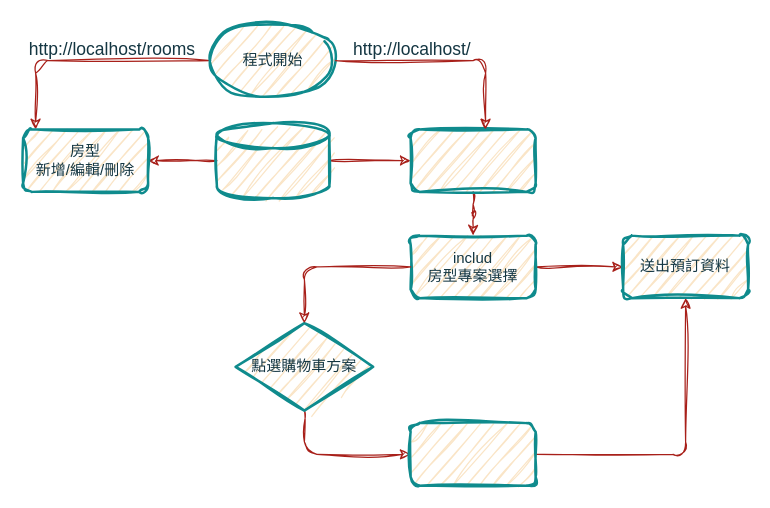
Image size: 770x508. Some labels were removed from this diagram. Here are the shapes that lost their labels. From the top down, the centre of each, then its label:
At [272,160]: "SQL Room房間資料".
At [472,160]: "首頁/購物車".
At [472,453]: "加選加值服務".
